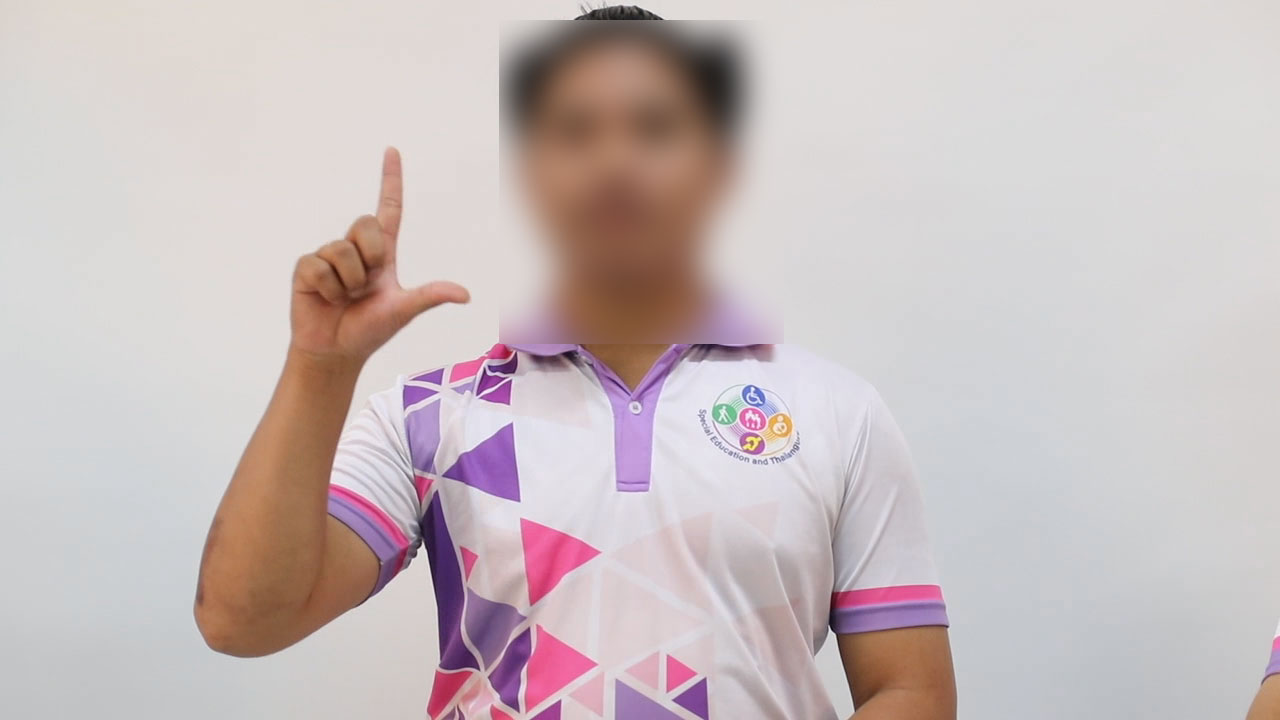lor: (264, 134, 481, 379)
